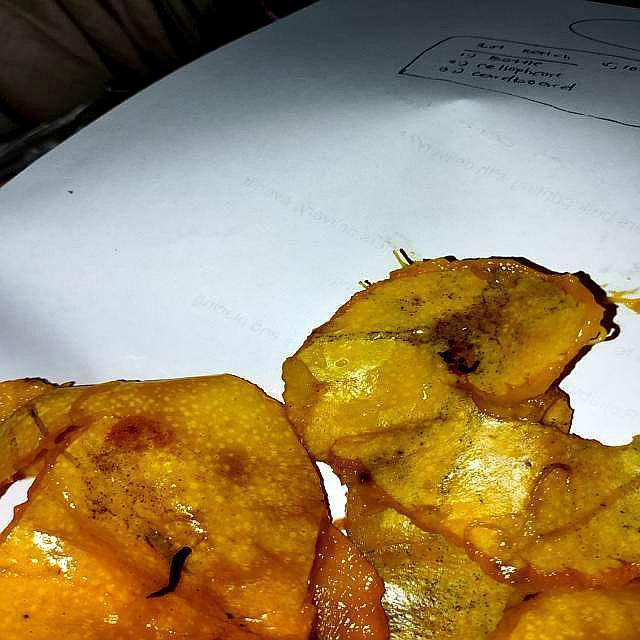Biodegradable: (1, 259, 640, 640)
